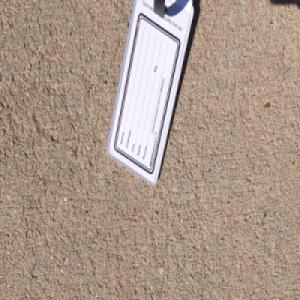LuggageTag: (105, 0, 194, 189)
